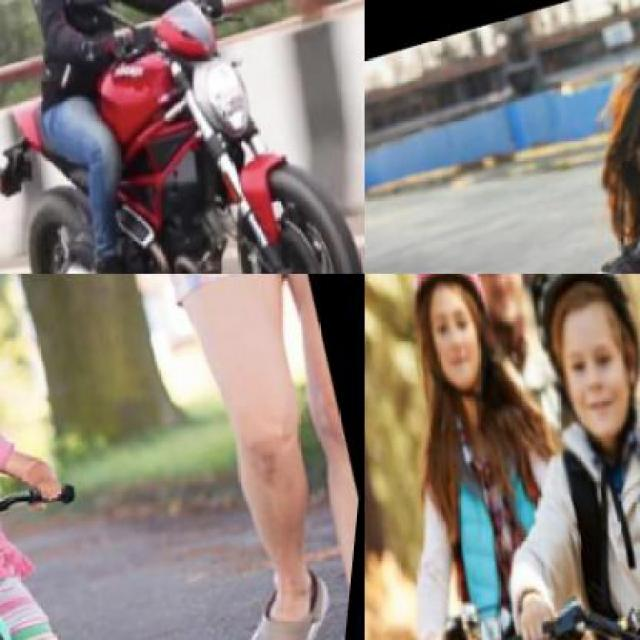With Helmet: (491, 274, 638, 498), (383, 274, 528, 415), (437, 274, 560, 348)
Without Helmet: (563, 17, 639, 237)
